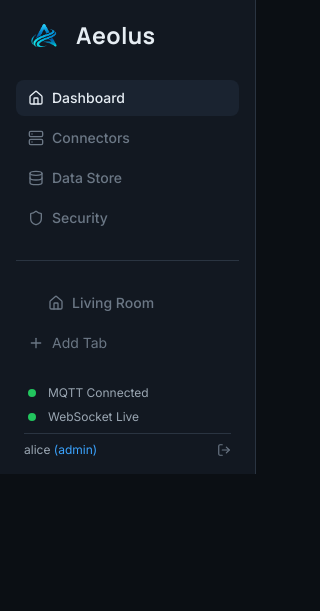
Sidebar › blocks duplicate tab names with a warning and disabled Add button
Click the button "Add Tab" at [128, 343], box [16,325,239,361]
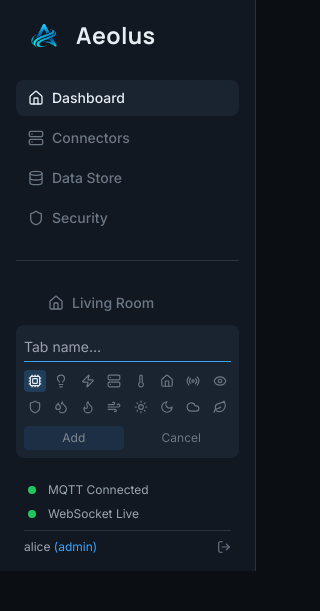
Type "Living Room" into the field with placeholder "Tab name…" at [128, 348], box [24,333,231,362]
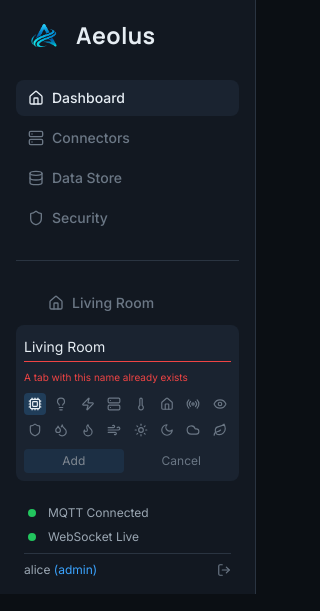
Expected: the button "Add" is disabled, [24,449,124,473]
Expected: the text "A tab with this name already exists" is shown, [24,371,188,383]
